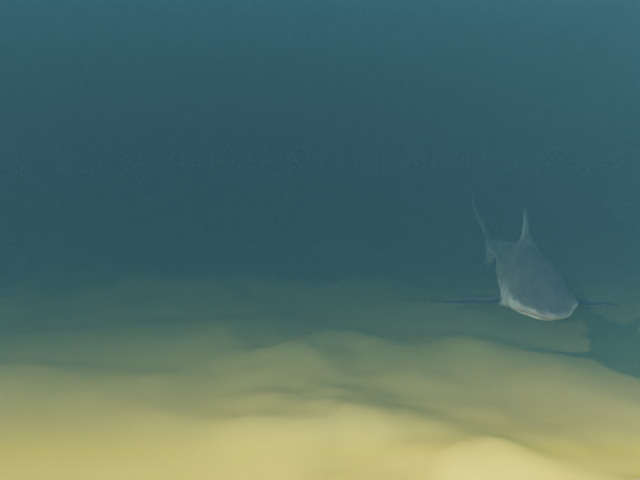Carribean Shark.001: (429, 188, 620, 320)
